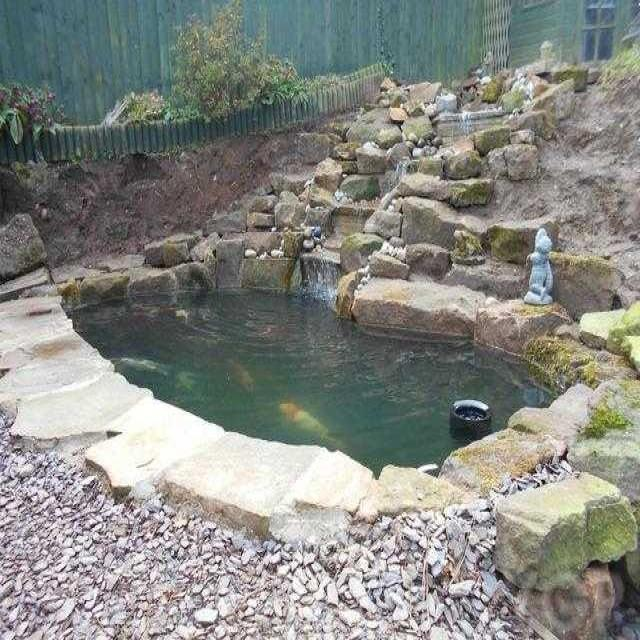Ponds: (1, 239, 617, 529)
